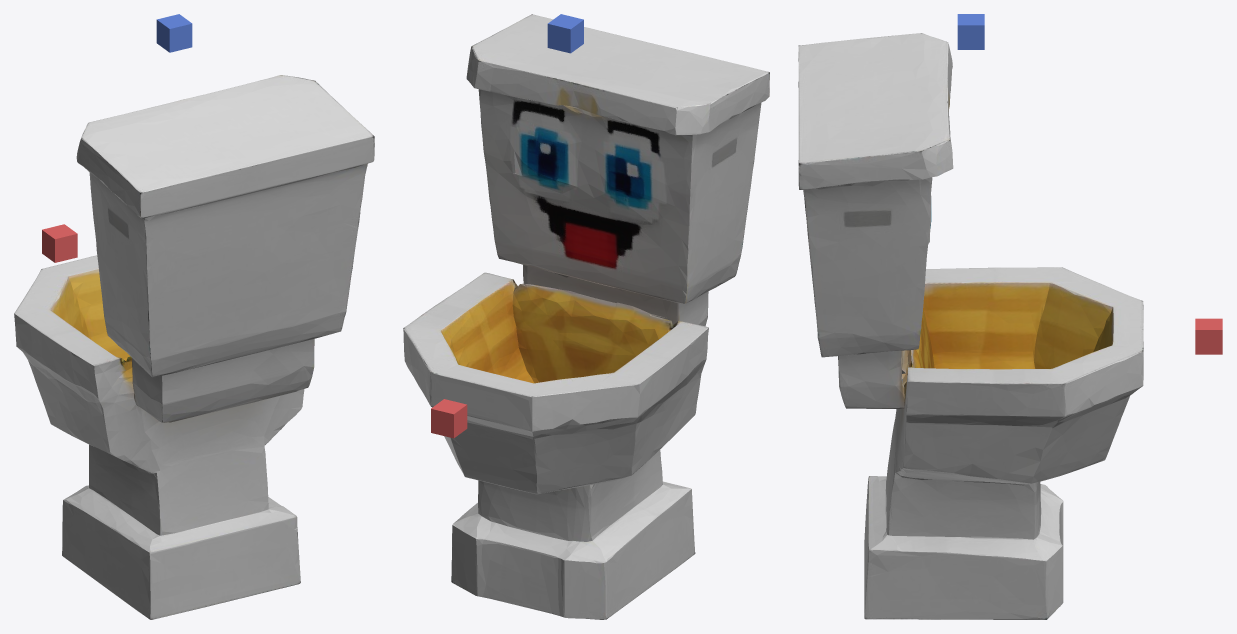
The model's file is SpaghettiTualetti.glb.
3 views of the same model, side by side, from view 1: azimuth 30°, elevation 25°; view 2: azimuth 150°, elevation 25°; view 3: azimuth 270°, elevation 25° (orthographic). The views are drawn at different scales.
Visible parts, largest first — view 1: SpaghettiTualetti_Body, SpaghettiTualetti_Top, SpaghettiTualetti_Front; view 2: SpaghettiTualetti_Body, SpaghettiTualetti_Front, SpaghettiTualetti_Top; view 3: SpaghettiTualetti_Body, SpaghettiTualetti_Front, SpaghettiTualetti_Top.
Boxes of the visible parts, x1,y1,x2,y2 form: SpaghettiTualetti_Body: [14, 75, 374, 619]; SpaghettiTualetti_Top: [156, 14, 192, 52]; SpaghettiTualetti_Front: [42, 224, 77, 262]; SpaghettiTualetti_Body: [403, 14, 769, 619]; SpaghettiTualetti_Front: [431, 399, 467, 438]; SpaghettiTualetti_Top: [547, 14, 583, 53]; SpaghettiTualetti_Body: [798, 33, 1143, 619]; SpaghettiTualetti_Front: [1195, 318, 1222, 354]; SpaghettiTualetti_Top: [957, 14, 984, 49].
Bounding box in the file's own units: 2.63 × 5.72 × 3.91.
1 material, 1 textured.
